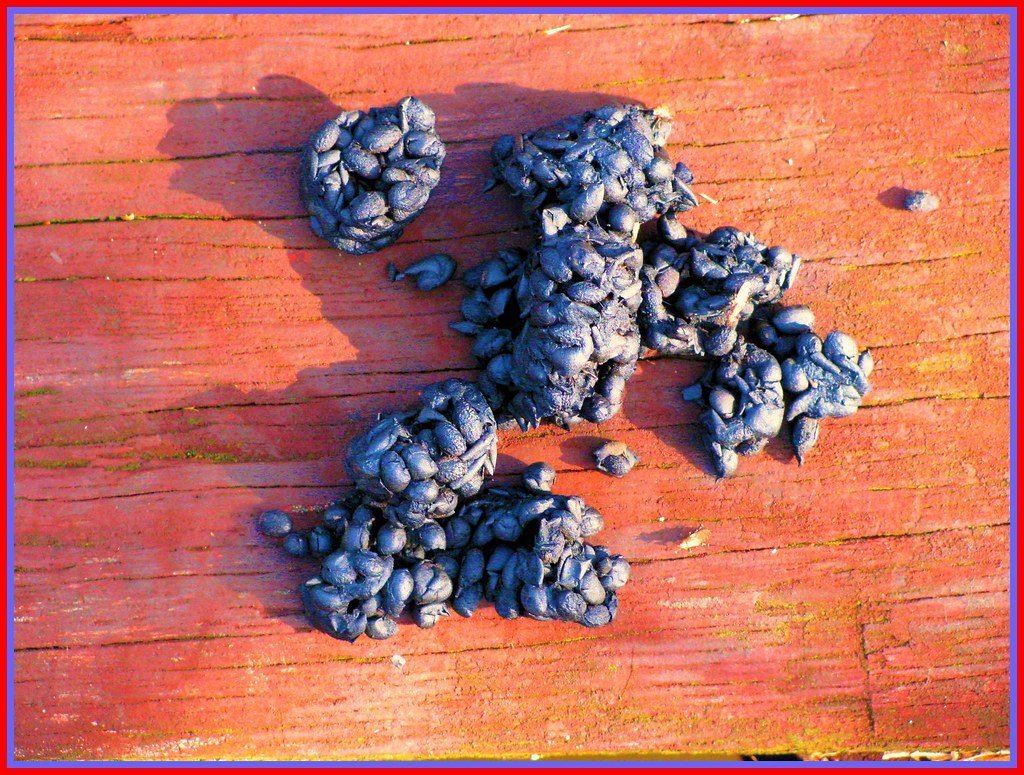Elk: (525, 127, 809, 430), (302, 400, 602, 596), (324, 123, 412, 202)
